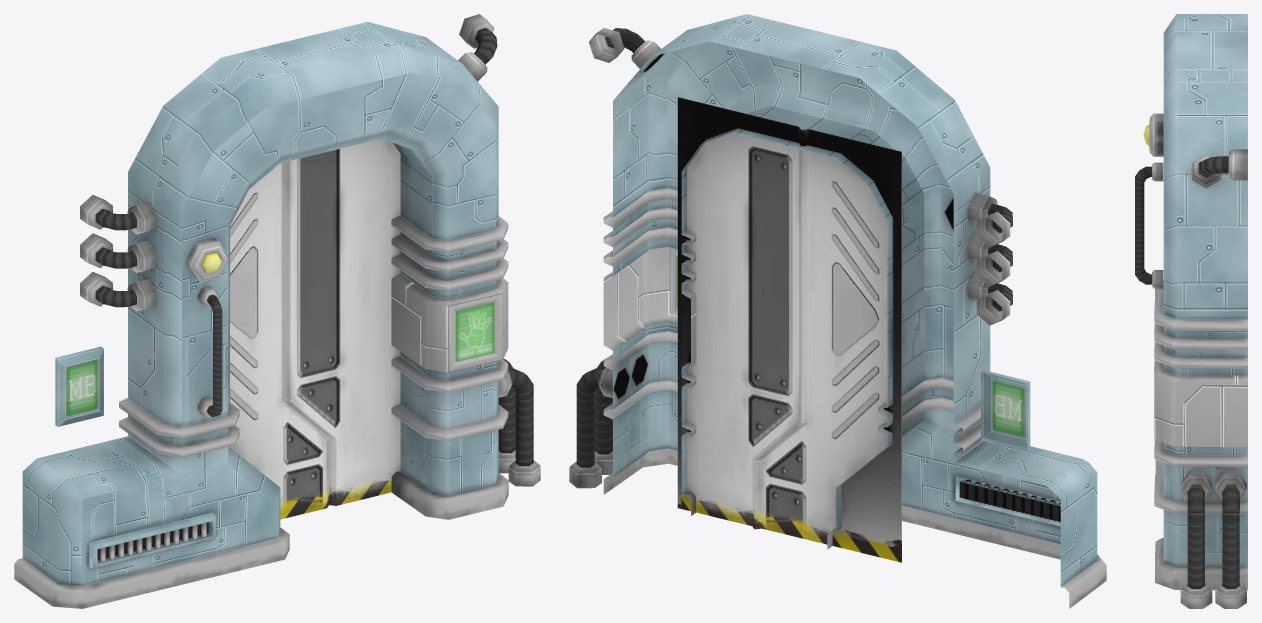
Rendered from spaceship_door.glb.
3 views of the same model, side by side, from view 1: azimuth 30°, elevation 25°; view 2: azimuth 150°, elevation 25°; view 3: azimuth 270°, elevation 25° (orthographic). The views are drawn at different scales.
Visible parts, largest first — view 1: Space_Door1_Door1_0; view 2: Space_Door1_Door1_0; view 3: Space_Door1_Door1_0.
Boxes of the visible parts, box(x1,y1,x2,y2) form: Space_Door1_Door1_0: box(14, 14, 540, 608); Space_Door1_Door1_0: box(569, 14, 1106, 608); Space_Door1_Door1_0: box(1135, 14, 1247, 608).
Size of the model in its own units: 2.13 by 1.93 by 0.432.
Materials: 1 (1 with a texture image).
